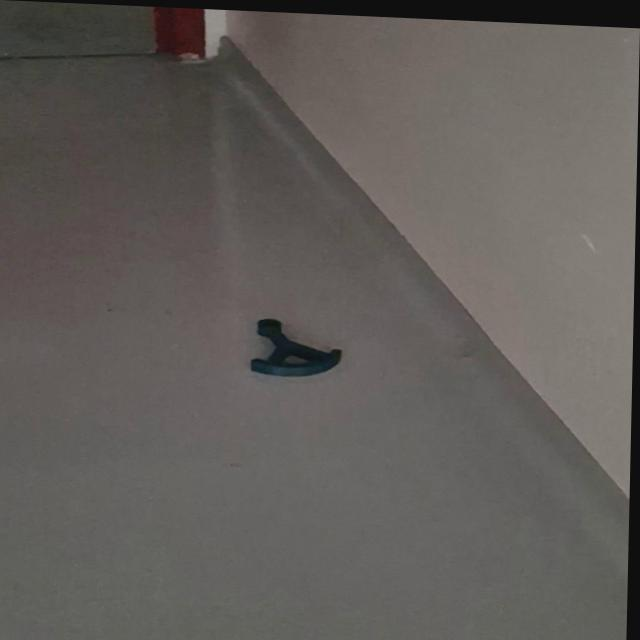haptic: (248, 317, 345, 380)
